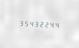five: (22, 19, 26, 27)
four: (27, 19, 31, 27), (47, 20, 51, 28), (52, 20, 56, 28)
three: (17, 18, 21, 27), (32, 19, 36, 27)
two: (37, 19, 41, 28), (42, 20, 46, 28)
